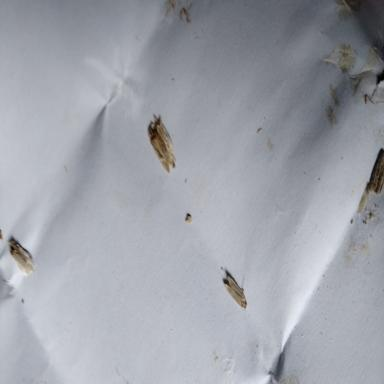pbw: (149, 116, 176, 173), (8, 239, 34, 275), (224, 275, 247, 309)
